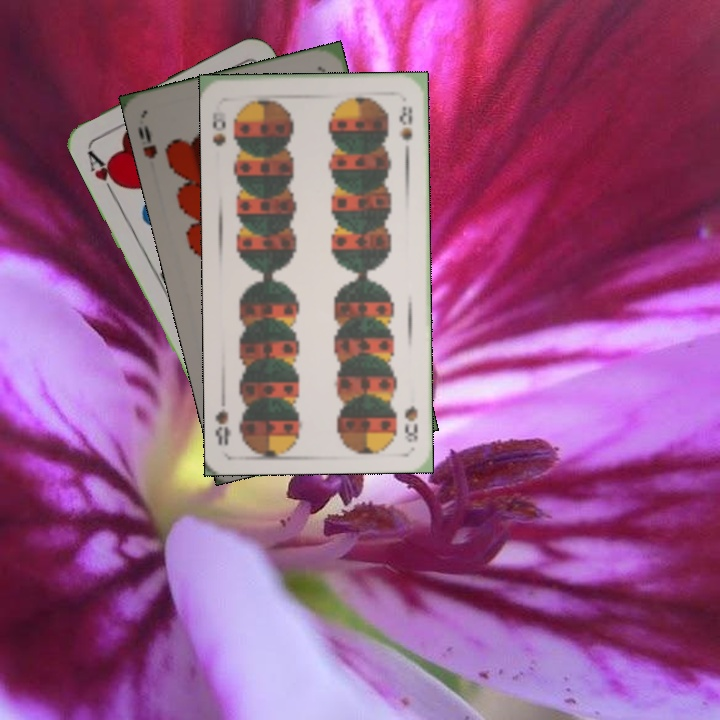H9: (134, 121, 160, 161)
HA: (82, 146, 124, 199)
S8: (400, 401, 421, 445), (208, 117, 228, 149)
